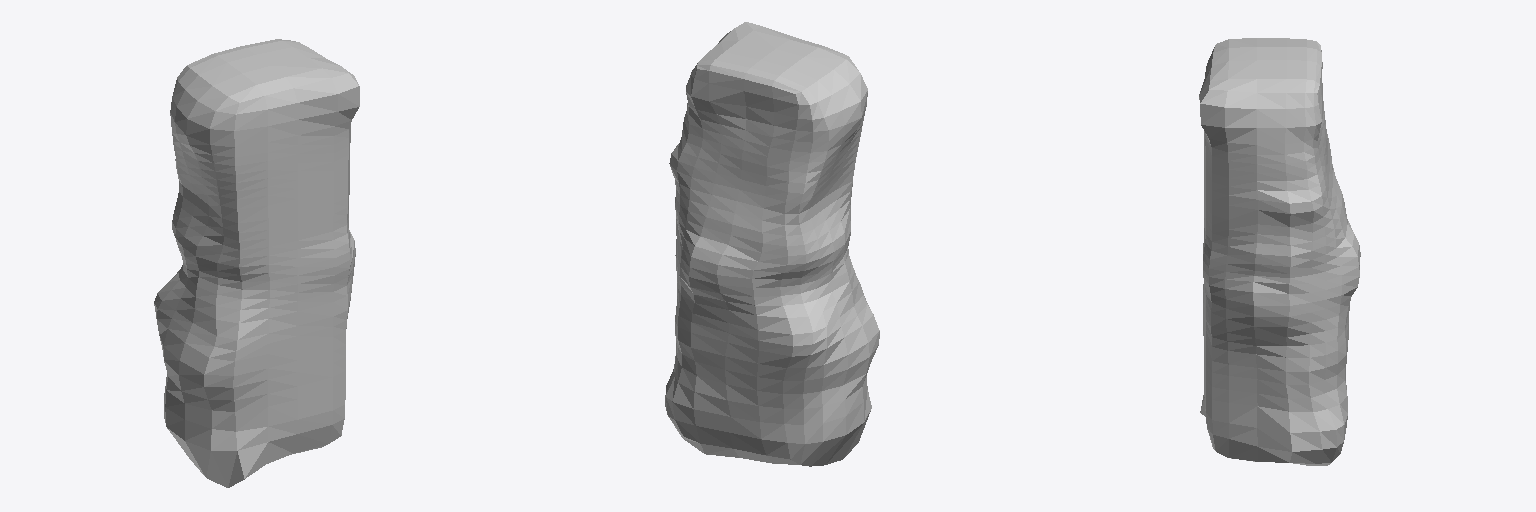
The model's file is PM3D_rock001_011.OBJ.
3 views of the same model, side by side, from view 1: azimuth 30°, elevation 25°; view 2: azimuth 150°, elevation 25°; view 3: azimuth 270°, elevation 25° (orthographic).
Parts seen in each view (by area): view 1: Group38435; view 2: Group38435; view 3: Group38435.
Boxes of the visible parts, box(x1,y1,x2,y2) form: Group38435: box(154, 39, 359, 487); Group38435: box(665, 22, 879, 466); Group38435: box(1199, 38, 1360, 465).
Size of the model in its own units: 2165 by 4559 by 1687.